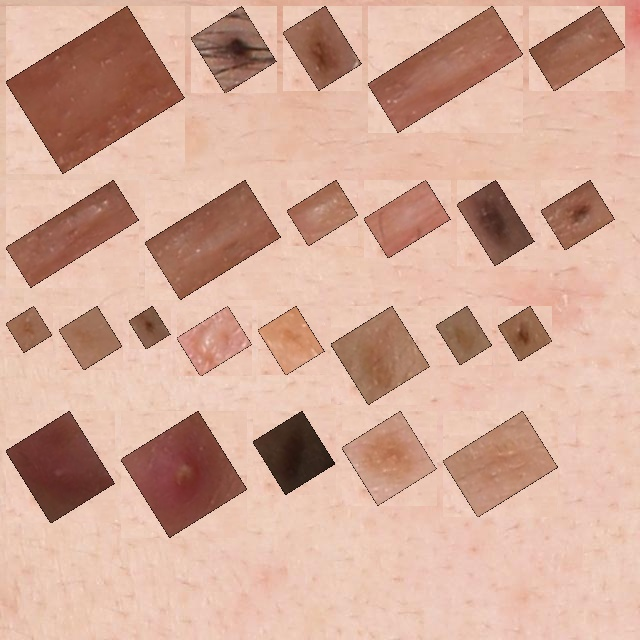hypertrophic_scar: (17, 17, 173, 162), (379, 17, 512, 121), (156, 191, 270, 288), (17, 191, 128, 276), (540, 17, 614, 80), (375, 191, 439, 247), (188, 317, 241, 365), (298, 191, 347, 234)
melasma: (454, 422, 547, 506), (342, 317, 419, 393), (353, 422, 426, 494), (269, 317, 313, 364), (70, 317, 111, 359), (447, 317, 481, 354), (17, 317, 41, 341)
nevus: (202, 17, 265, 82), (264, 422, 324, 483), (294, 17, 350, 79), (468, 191, 523, 254), (552, 191, 604, 239), (509, 317, 541, 350), (140, 317, 159, 338)
pustule: (132, 422, 236, 526), (17, 422, 104, 512)
